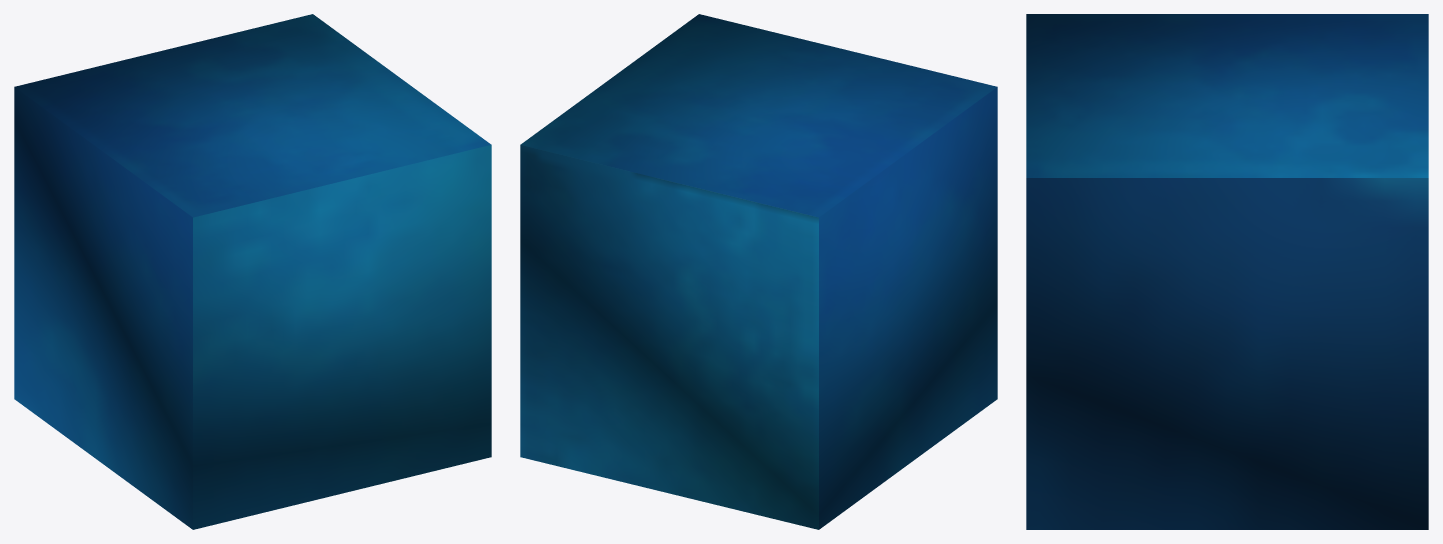
Rendered from pvp_ zhuankuai_06.FBX.
The picture shows the model from 3 angles, left to right: view 1: azimuth 30°, elevation 25°; view 2: azimuth 150°, elevation 25°; view 3: azimuth 270°, elevation 25°; orthographic projection. The views are drawn at different scales.
Visible parts, largest first — view 1: pvp_ zhuankuai_06; view 2: pvp_ zhuankuai_06; view 3: pvp_ zhuankuai_06.
Boxes of the visible parts, x1=… form: pvp_ zhuankuai_06: x1=14, y1=14, x2=491, y2=529; pvp_ zhuankuai_06: x1=520, y1=14, x2=997, y2=529; pvp_ zhuankuai_06: x1=1026, y1=14, x2=1428, y2=529.
Bounding box in the file's own units: 0.6301 × 0.6301 × 0.6532.
